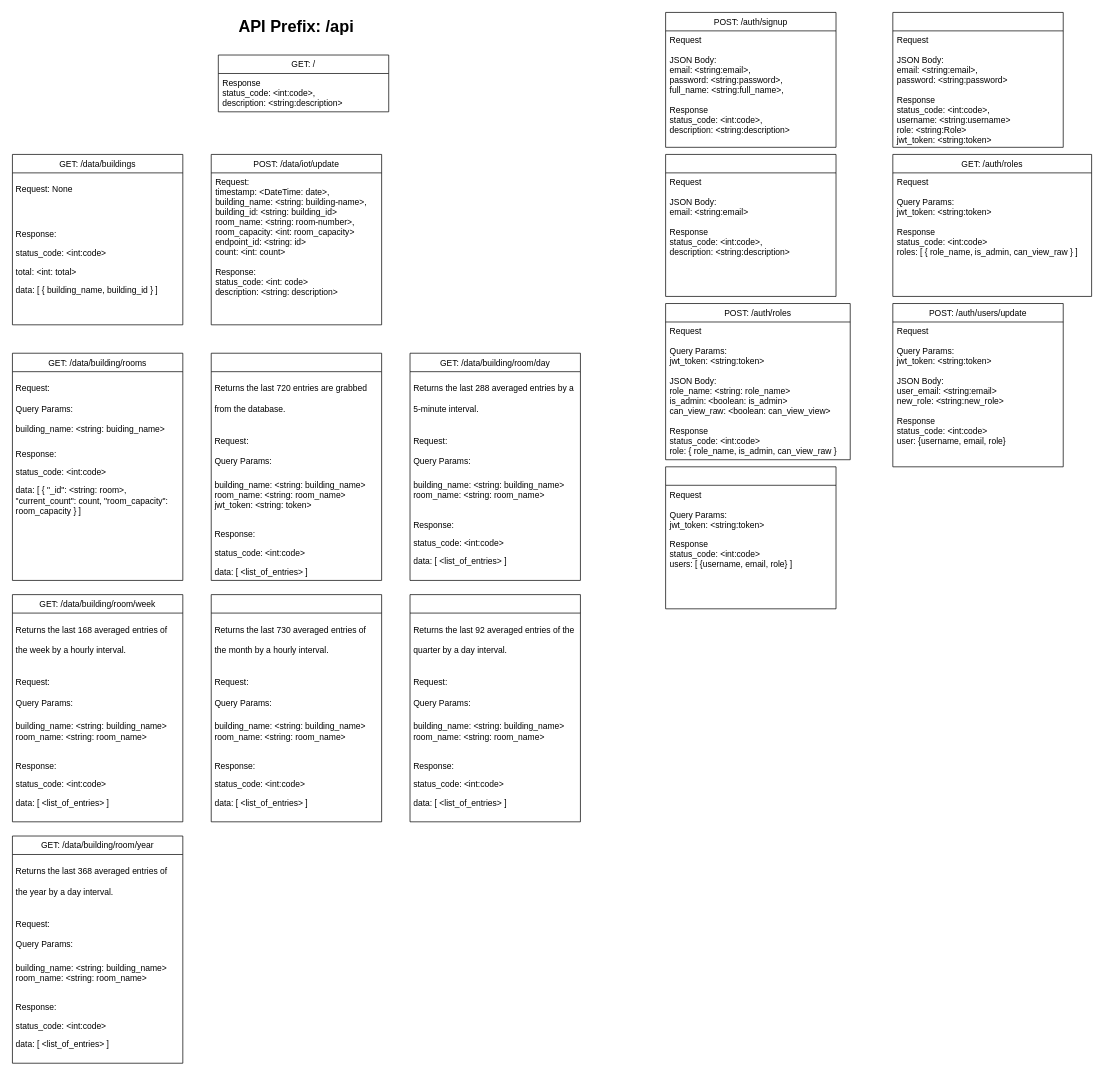
The diagram is 1104 pixels wide and 1076 high, and some of its shapes have lost their labels. Each missing label, with the box of its shape:
GET: /auth/users: (665, 466, 836, 609)
GET: /data/building/room/hour: (211, 353, 382, 580)
GET: /data/building/room/month: (211, 594, 382, 822)
GET: /data/building/room/quarter: (409, 594, 580, 822)
POST: /auth/forgot/password: (665, 154, 836, 296)
POST: /auth/signin: (892, 12, 1063, 147)
